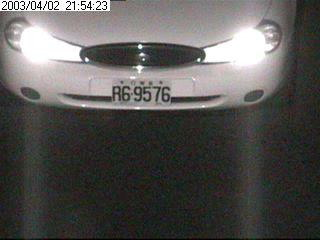plate: (110, 76, 172, 105)
